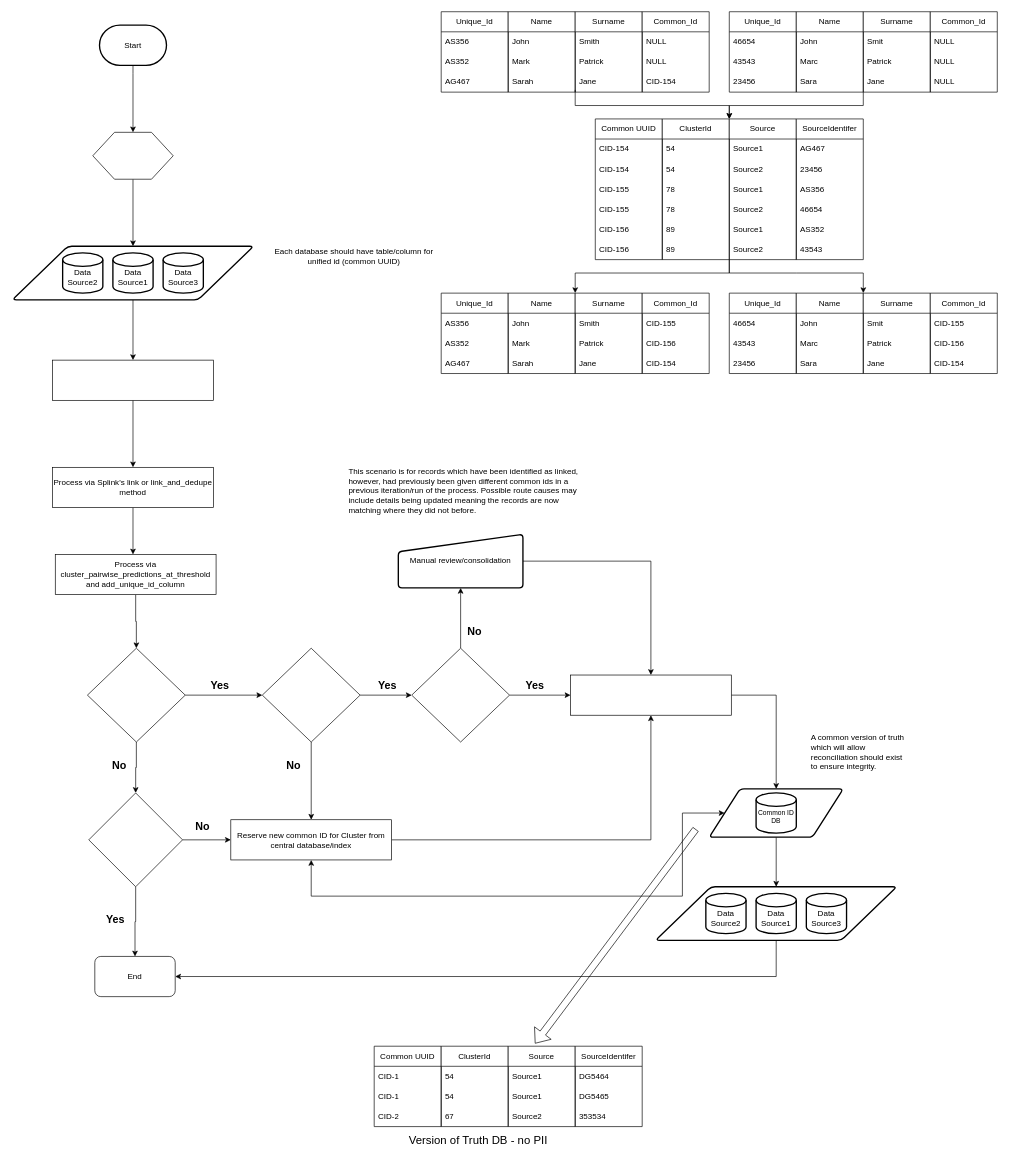
Image size: 1009x1162. Some labels were removed from this diagram. Each missing label, with the centre of its shape:
"Any Link or Duplicates Exist for record?" belongs at (136,695).
"Assign common UUID to all linked records in cluster" belongs at (650,694).
"Common UUID is distinct within Cluster?" belongs at (460,695).
"Common UUID populated at source?" belongs at (135,839).
"Configure Splink Python Library" belongs at (132,155).
"Data Extraction via Spark (data streamed real time, not transferred)" belongs at (132,379).
"One of more members of the cluster have common UUID in source?" belongs at (311,695).
